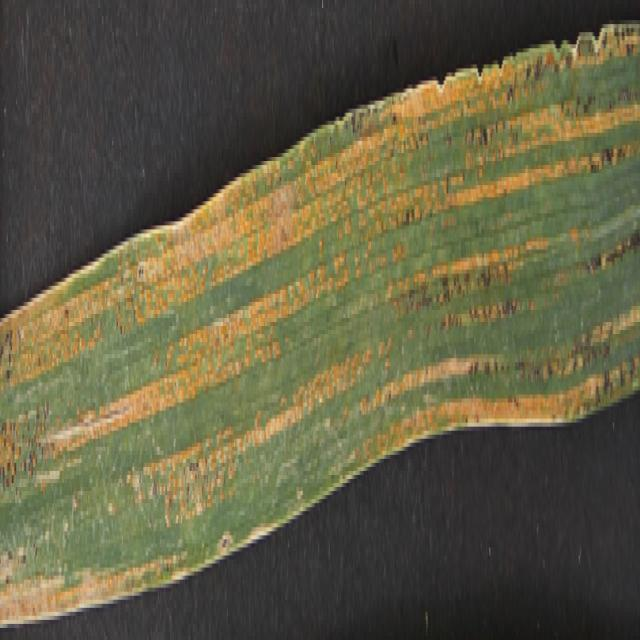leaf rust: (1, 4, 640, 604)
